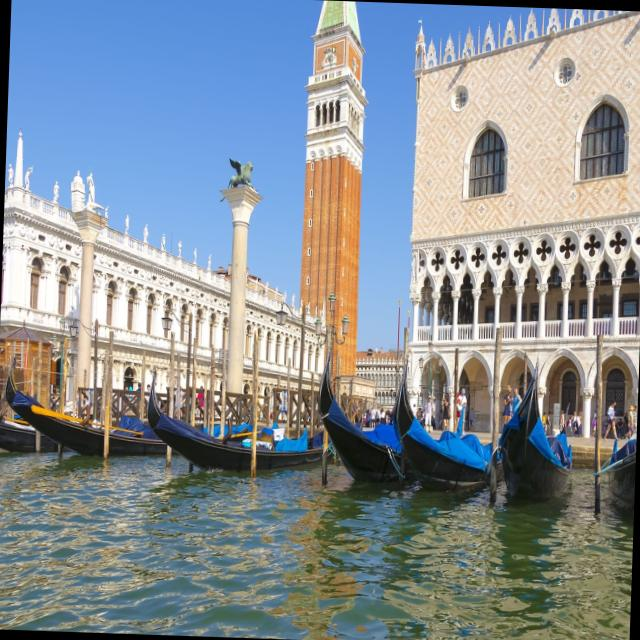boat: (134, 325, 335, 484), (0, 320, 173, 475), (301, 322, 416, 510), (386, 332, 502, 518), (494, 338, 580, 526), (598, 366, 638, 572)
